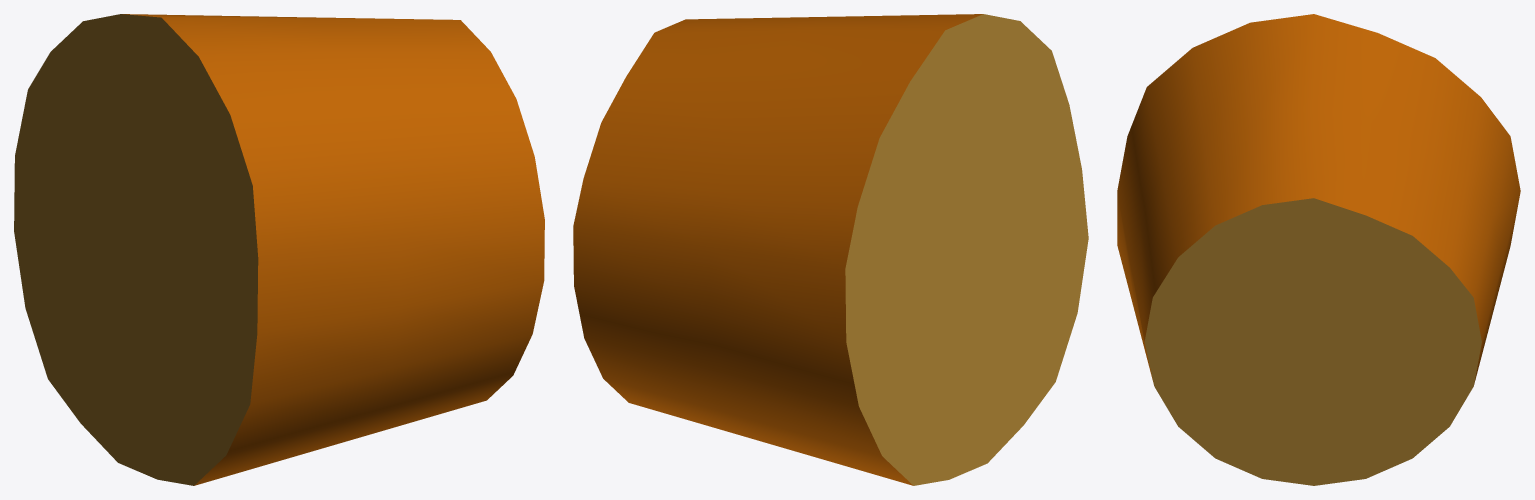
The model's file is mesh_CarrotSlice_Stage05.fbx.
3 renders of one model, left to right at view 1: azimuth 30°, elevation 25°; view 2: azimuth 150°, elevation 25°; view 3: azimuth 270°, elevation 25°, orthographic. The views are drawn at different scales.
Visible parts, largest first — view 1: mesh_CarrotSlice_Stage05; view 2: mesh_CarrotSlice_Stage05; view 3: mesh_CarrotSlice_Stage05.
Part boxes in pixels (bbox=[...]): mesh_CarrotSlice_Stage05: bbox=[14, 14, 544, 485]; mesh_CarrotSlice_Stage05: bbox=[573, 14, 1088, 485]; mesh_CarrotSlice_Stage05: bbox=[1117, 14, 1520, 485].
Bounding box in the file's own units: 0.0181 × 0.0222 × 0.0222.
